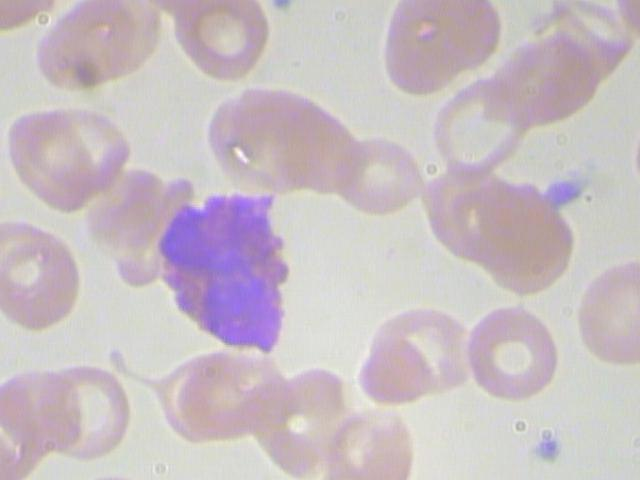Platelets: (530, 424, 574, 468), (540, 176, 589, 211)
RBC: (30, 1, 168, 95), (154, 348, 279, 446), (378, 1, 503, 98), (0, 108, 107, 213), (430, 77, 532, 184), (461, 301, 566, 404), (34, 359, 134, 462), (0, 216, 82, 340), (168, 1, 276, 83), (332, 134, 425, 215), (571, 259, 639, 369), (327, 404, 415, 480), (357, 332, 436, 402)
WBC: (148, 185, 303, 372)
